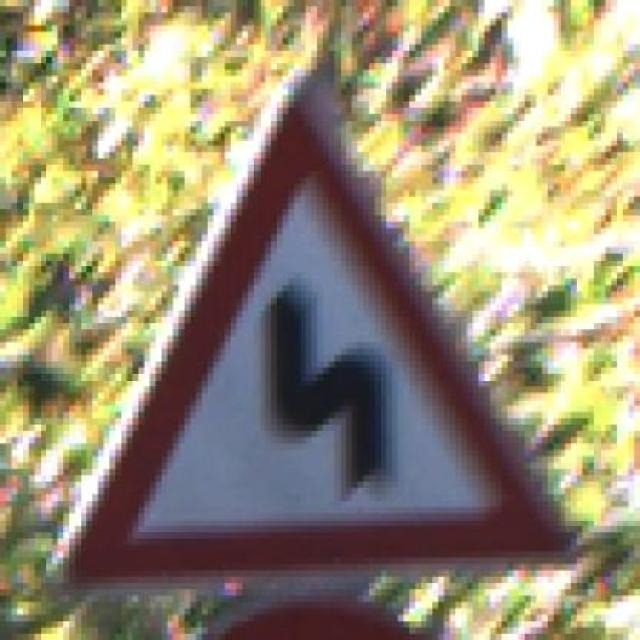Left Zig Zag Traffic: (58, 76, 572, 564)
